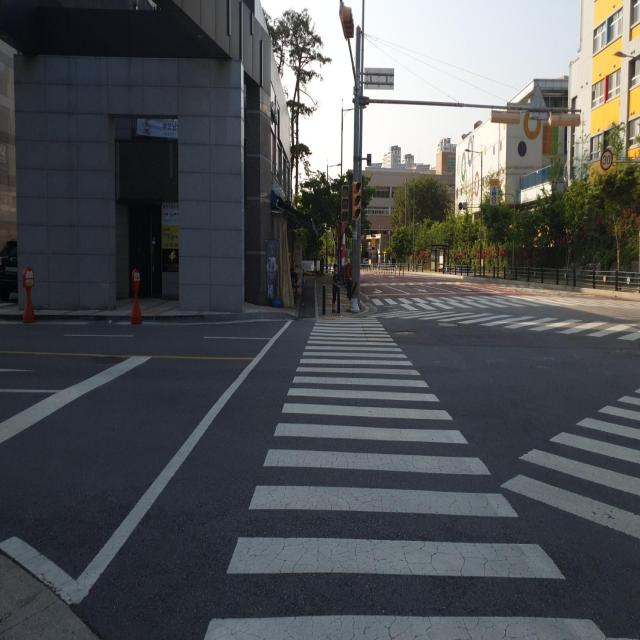횡단보도: (204, 317, 610, 639), (501, 379, 640, 546), (371, 292, 546, 318)
